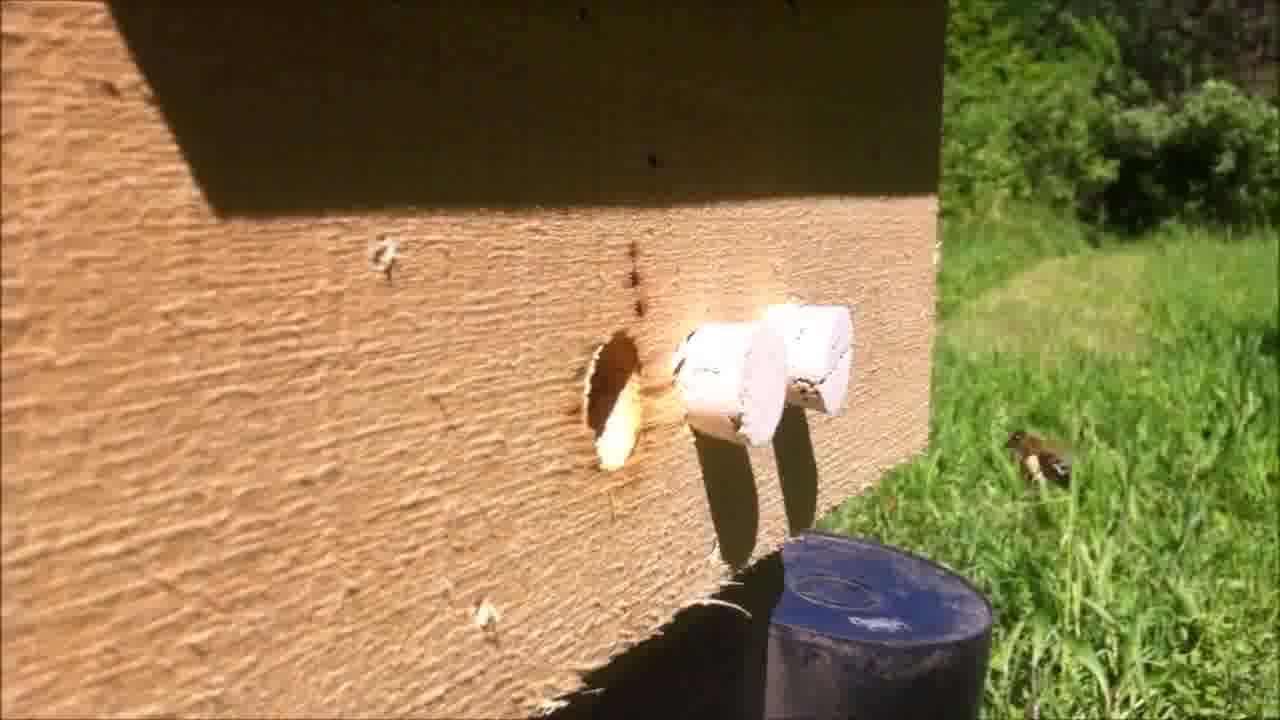pollen: (1002, 429, 1075, 487)
